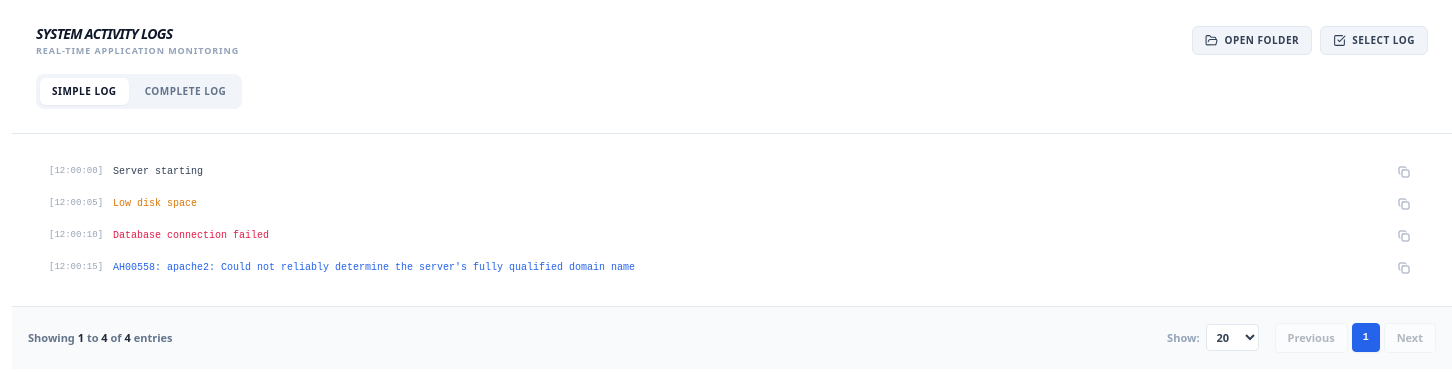
Test: LogViewer Component › Gmail-style Selection Mode, Shift+Click, Context Menu, and Batch Copy › opens context menu with 'Select Log' when right clicked outside selection mode
Right-click the text "[12:00:00]" at coordinates (76, 172), box top-left (49, 165), bottom-right (103, 178)
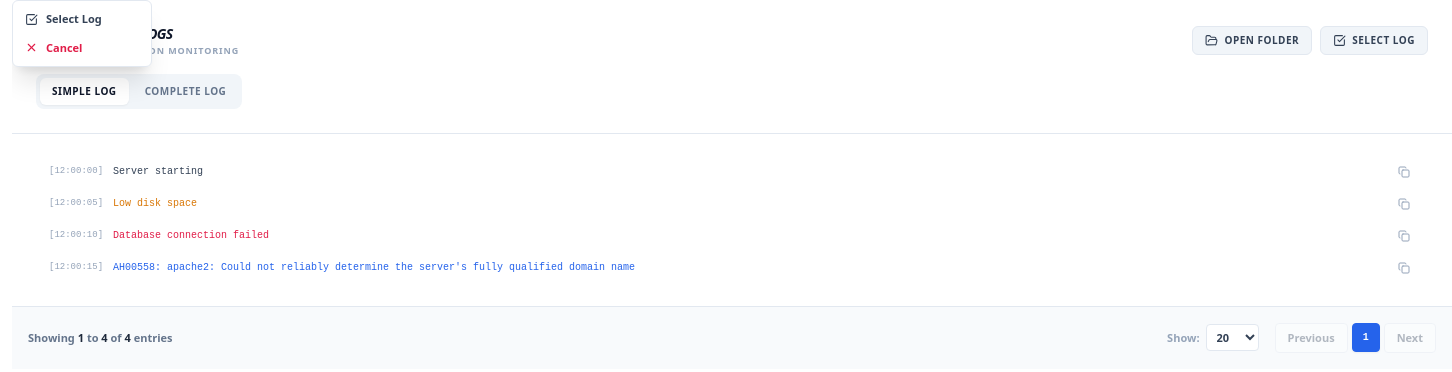
Click the 1st button "Select Log" at coordinates (82, 19), box top-left (13, 5), bottom-right (151, 34)
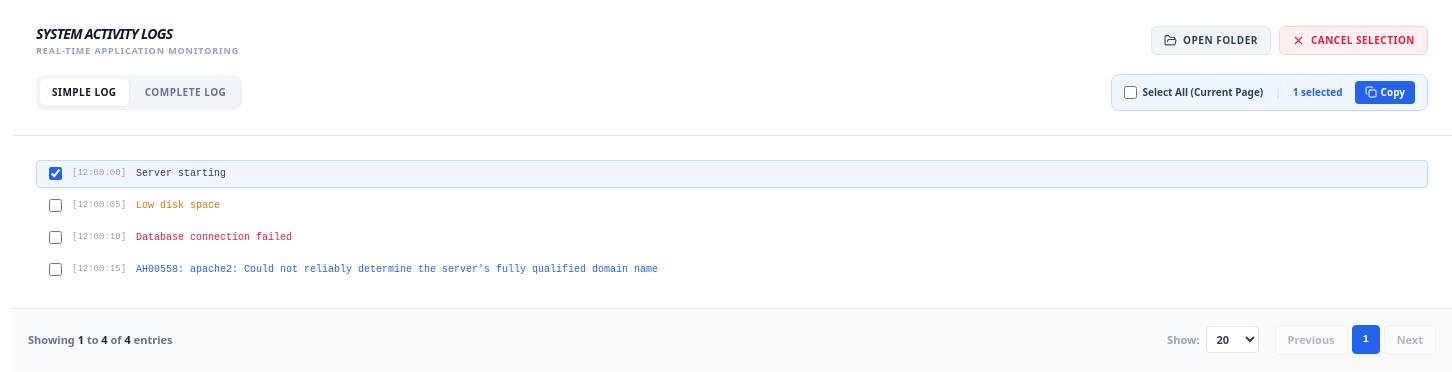
Result: the button "Cancel Selection" is shown at top-left (1279, 26), bottom-right (1428, 55)
Result: the text "1 selected" is shown at top-left (1293, 84), bottom-right (1343, 100)
